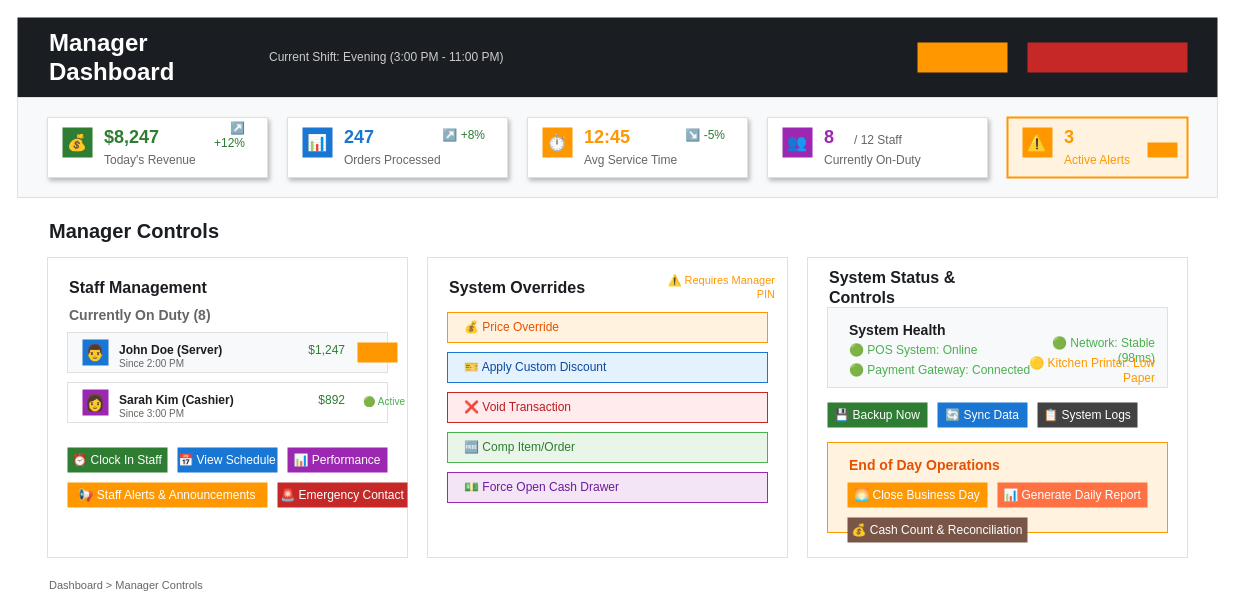
The diagram is 1235 pixels wide and 609 high, and some of its shapes have lost their labels. Here are the shapes that lost their labels. From the top down, the centre of each, then its label:
At pixel 962 57: "🔚 End Shift".
At pixel 1107 57: "🚨 Emergency Override".
At pixel 1162 149: "View".
At pixel 377 352: "🕐 Break".
